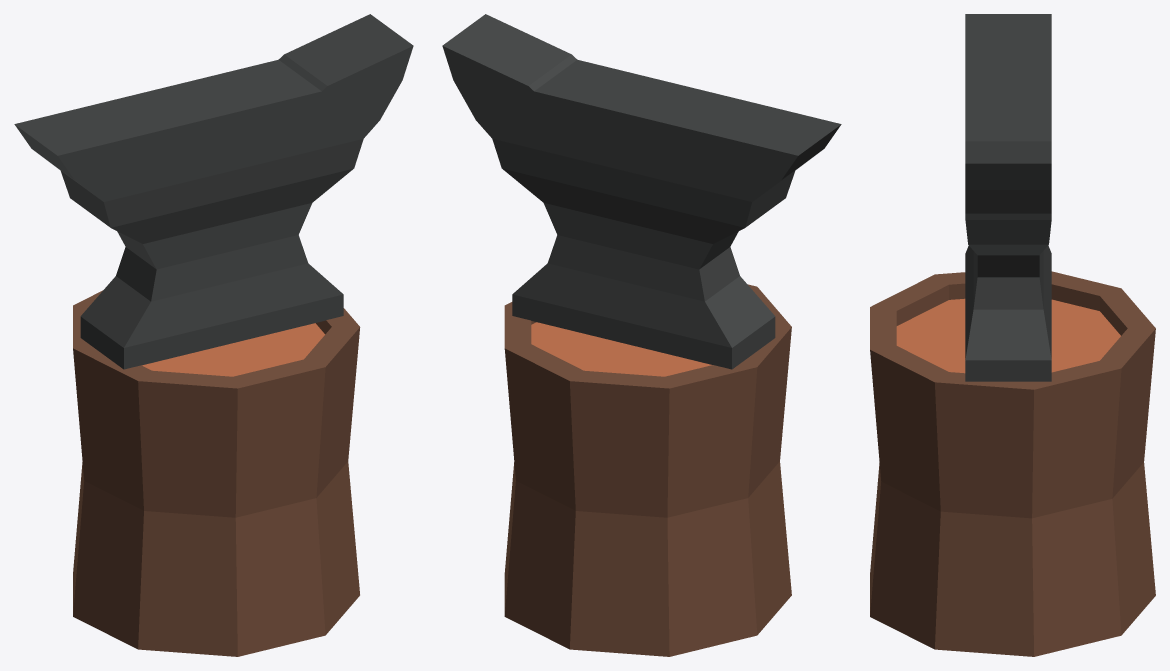
Rendered from Anvil_4_Black.fbx.
3 views of the same model, side by side, from view 1: azimuth 30°, elevation 25°; view 2: azimuth 150°, elevation 25°; view 3: azimuth 270°, elevation 25° (orthographic).
Visible parts, largest first — view 1: Anvil_4_Black_Part_1, Anvil_4_Black_Part_3, Anvil_4_Black_Part_2; view 2: Anvil_4_Black_Part_1, Anvil_4_Black_Part_3, Anvil_4_Black_Part_2; view 3: Anvil_4_Black_Part_1, Anvil_4_Black_Part_3, Anvil_4_Black_Part_2.
Boxes of the visible parts, x1=… form: Anvil_4_Black_Part_1: x1=73, y1=290, x2=360, y2=656; Anvil_4_Black_Part_3: x1=14, y1=14, x2=413, y2=369; Anvil_4_Black_Part_2: x1=142, y1=323, x2=324, y2=376; Anvil_4_Black_Part_1: x1=504, y1=284, x2=791, y2=656; Anvil_4_Black_Part_3: x1=442, y1=14, x2=841, y2=369; Anvil_4_Black_Part_2: x1=531, y1=322, x2=711, y2=376; Anvil_4_Black_Part_1: x1=870, y1=271, x2=1155, y2=656; Anvil_4_Black_Part_3: x1=965, y1=14, x2=1051, y2=381; Anvil_4_Black_Part_2: x1=896, y1=298, x2=1120, y2=373.
Bounding box in the file's own units: 97.15 × 136 × 67.89.
